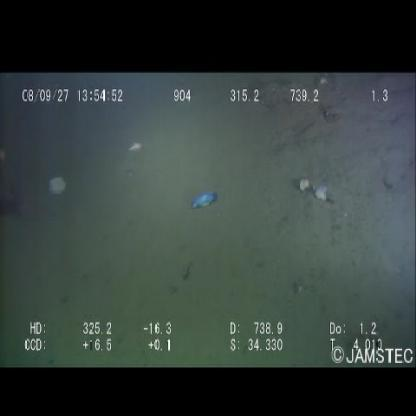Rác: (188, 187, 221, 217)
